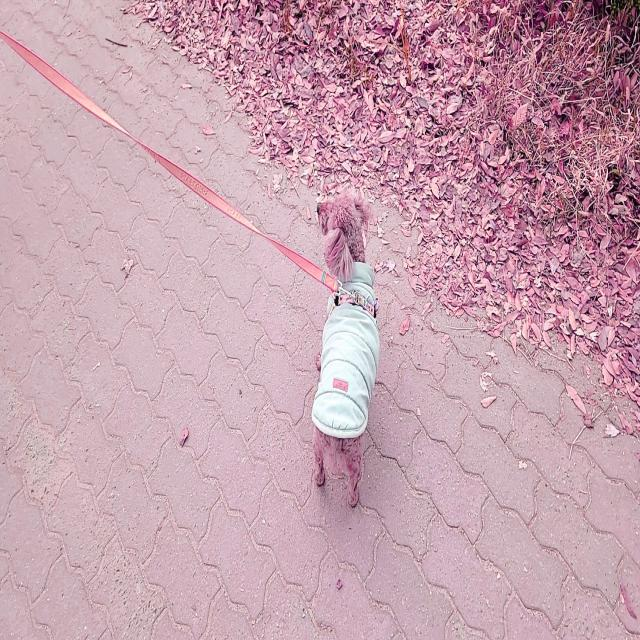Dog: (311, 193, 379, 507)
